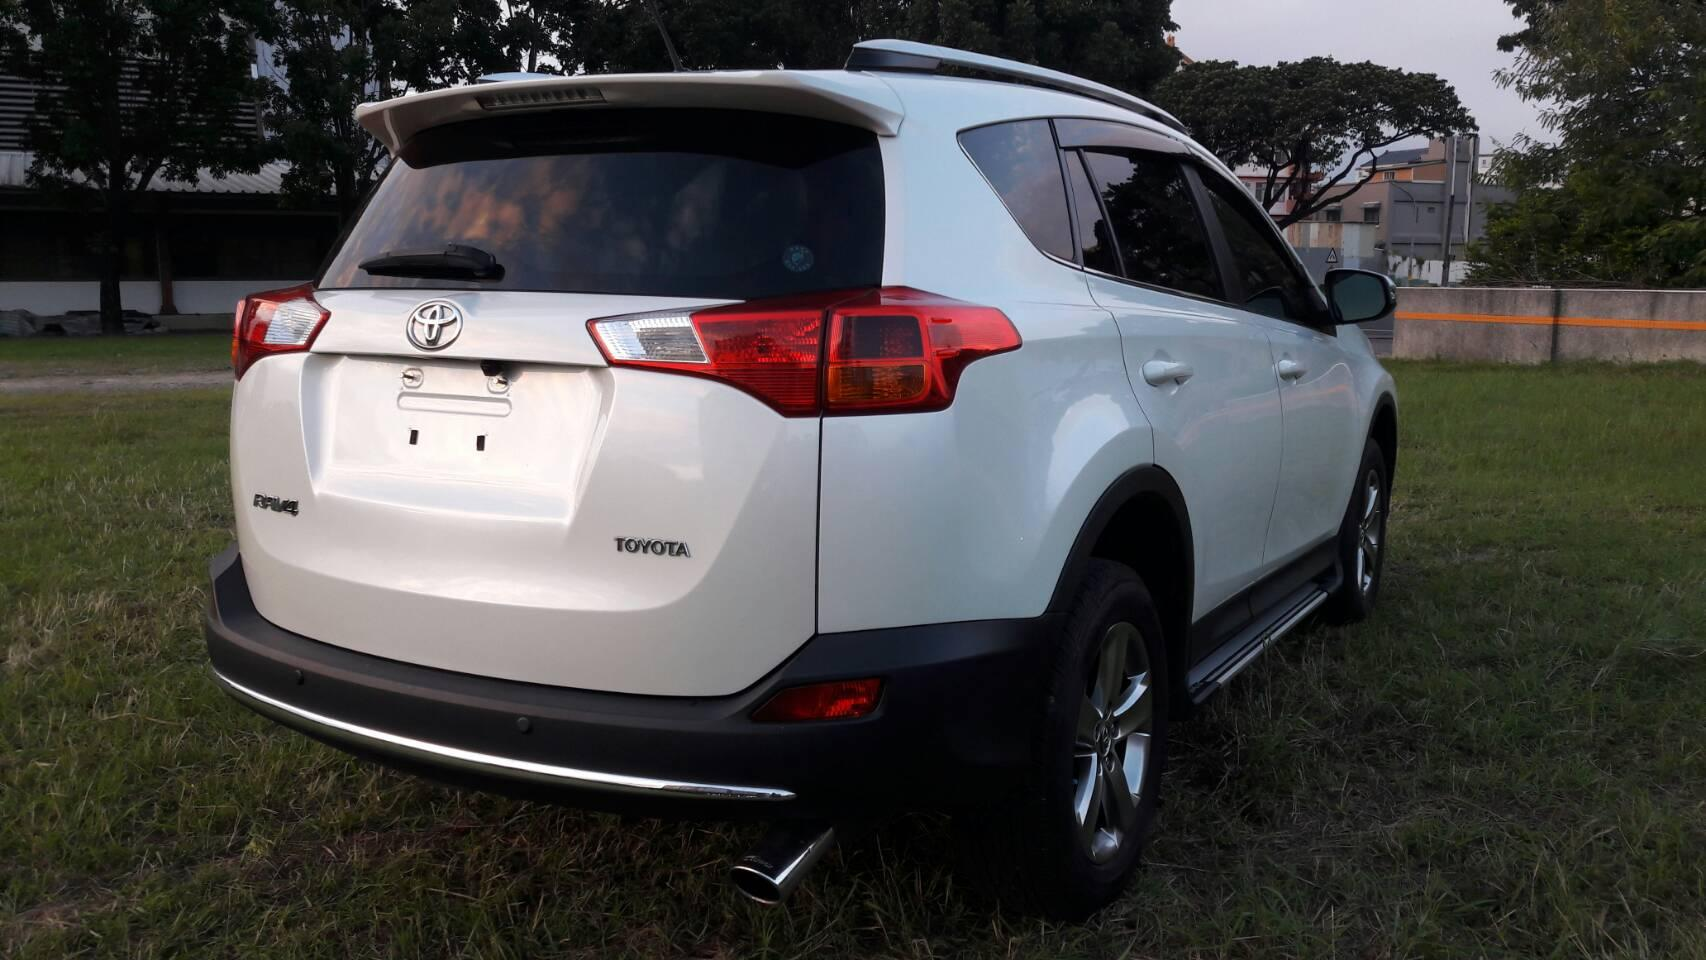toyota_rav4: (224, 72, 991, 872)
